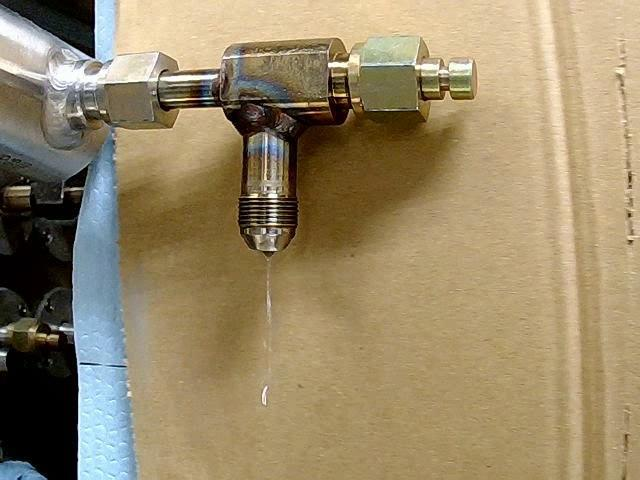water drop: (258, 251, 275, 406)
